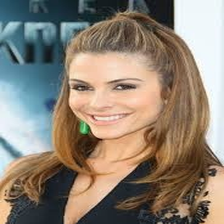no_mask: (69, 55, 161, 138)
